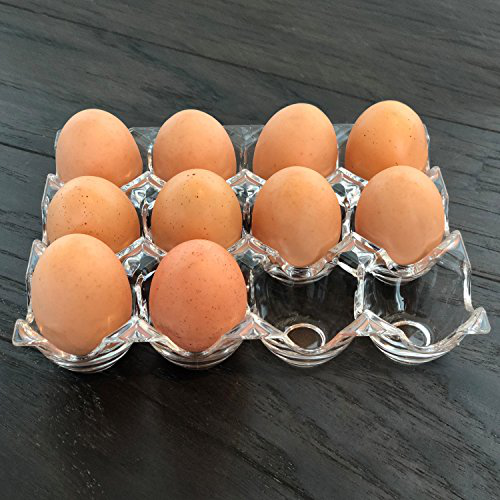egg: (27, 93, 452, 355)
